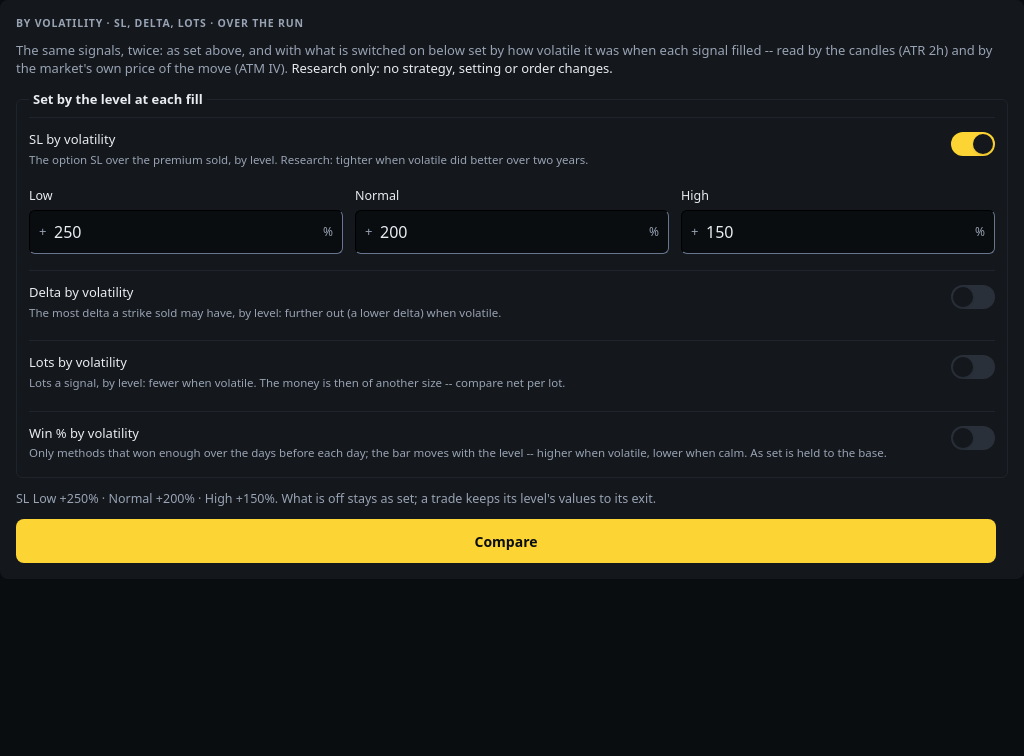
Test case: VolStudy › [critical] over saved backtests run together: how many, and one that could not be worked, named with why
The image size is (1024, 756).
Expected: the heading "By volatility · SL, delta, lots · over the run" is shown, [16,16,304,32]
Click the button "Compare".
click(506, 541)  # box [16,519,996,563]
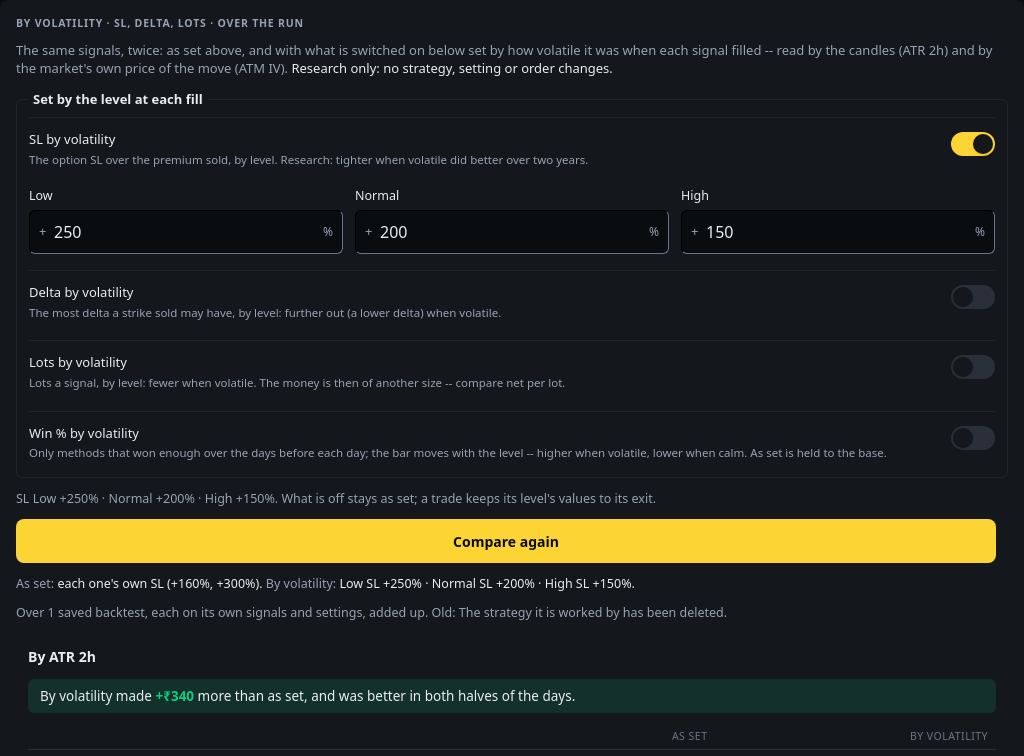
Now the text "Over 1 saved backtest, each on its own signals and settings, added up. Old: The strategy it is worked by has been delet" is shown, box [16,604,727,621]
